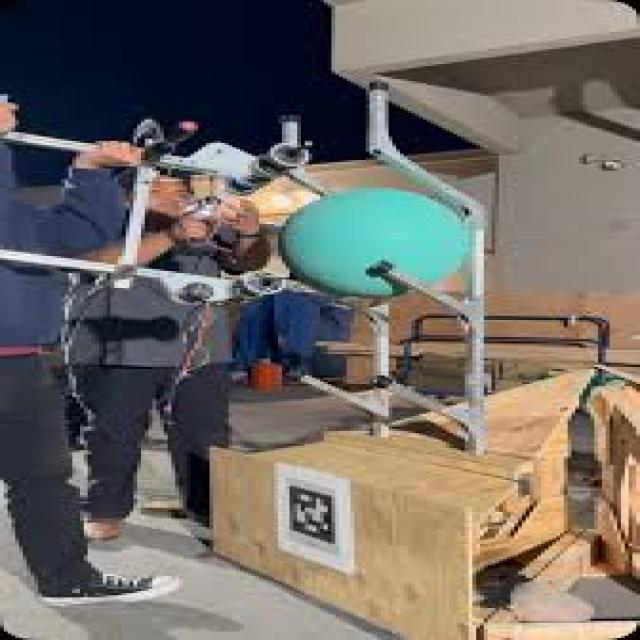algae: (278, 186, 480, 309)
